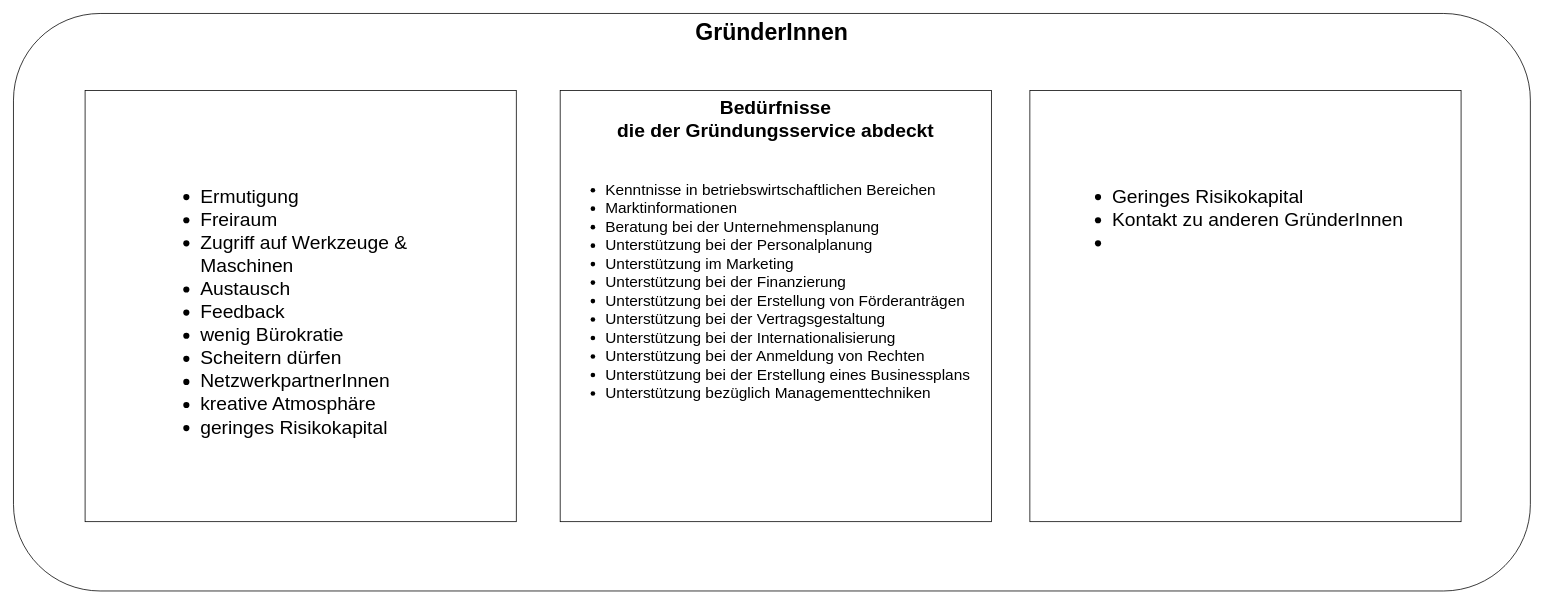
The diagram is 1544 pixels wide and 604 high, and some of its shapes have lost their labels. Each missing label, with the box of its shape:
Bedürfnisse die das FabLab abdeckt: (84, 90, 516, 522)
Bedürfnisse die das RCGC abdeckt: (1029, 90, 1461, 522)
